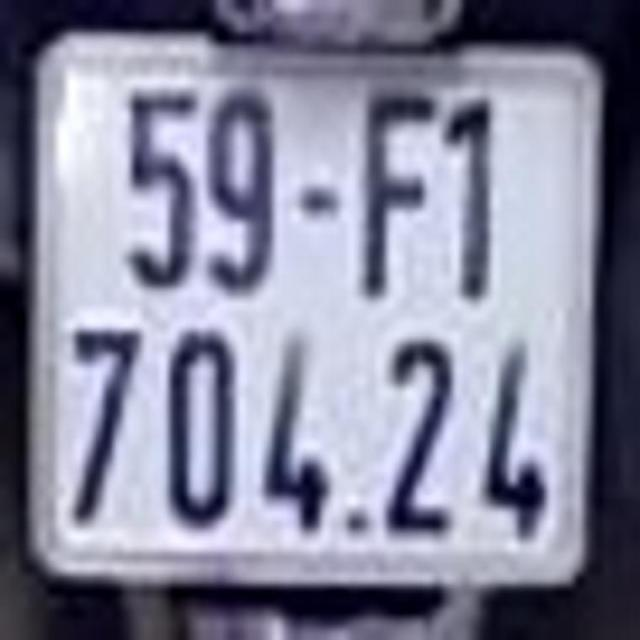0: (163, 307, 240, 535)
1: (448, 82, 509, 308)
2: (383, 308, 461, 543)
4: (259, 306, 340, 541), (481, 320, 556, 553)
5: (117, 71, 198, 292)
7: (64, 311, 148, 538)
9: (205, 76, 278, 303)
F: (353, 84, 439, 303)
